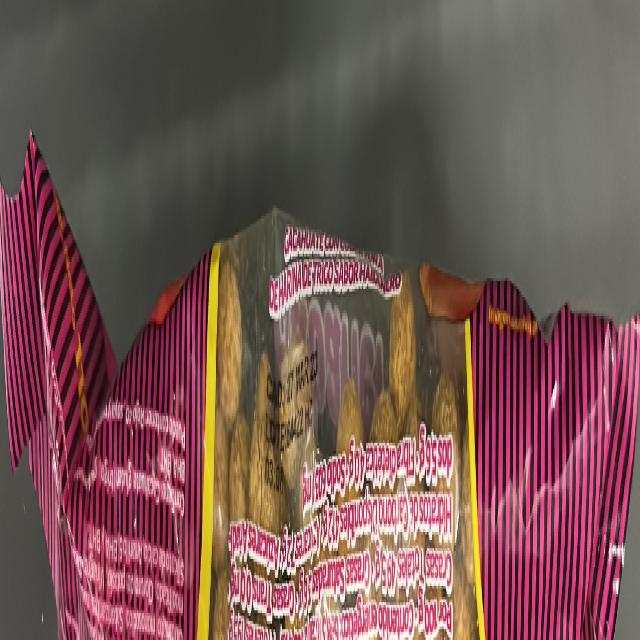bitzHabanero: (32, 243, 639, 640)
